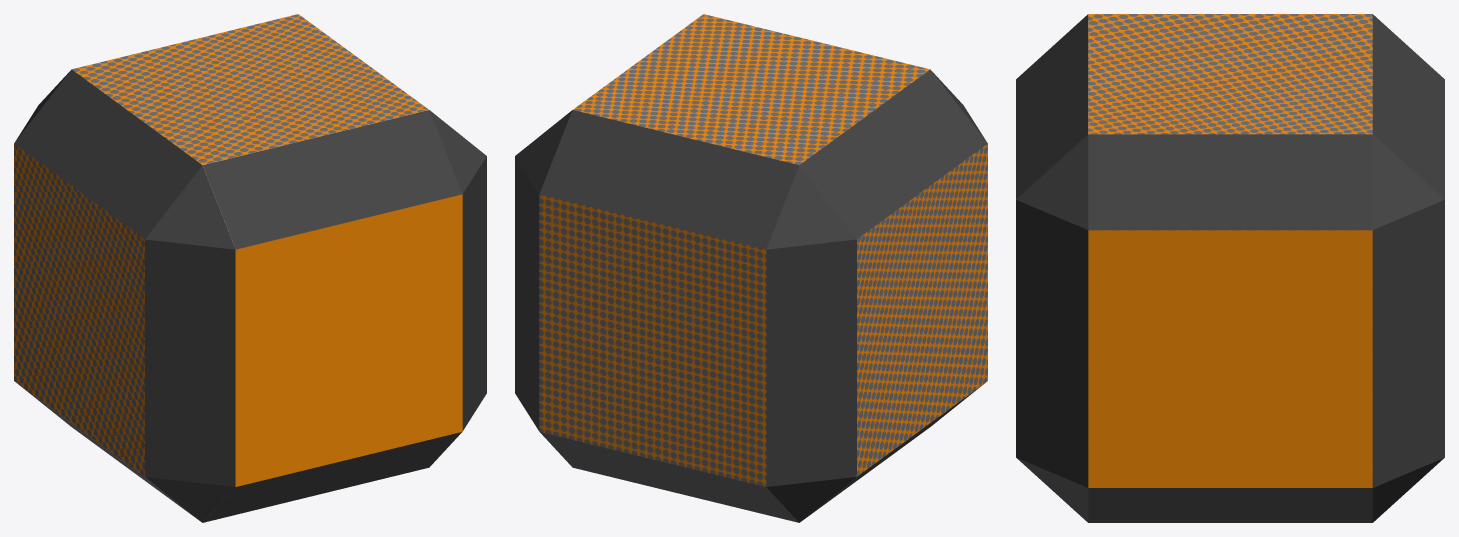
3 views of the same model, side by side, from view 1: azimuth 30°, elevation 25°; view 2: azimuth 150°, elevation 25°; view 3: azimuth 270°, elevation 25° (orthographic). The views are drawn at different scales.
Parts seen in each view (by area): view 1: Box2-lp; view 2: Box2-lp; view 3: Box2-lp.
Part boxes in pixels (left/top/right/bottom): Box2-lp: left=14, top=14, right=486, bottom=522; Box2-lp: left=515, top=14, right=987, bottom=522; Box2-lp: left=1016, top=14, right=1444, bottom=522.
Size of the model in its own units: 200 by 200 by 200.
Materials: 3 (3 with a texture image).
